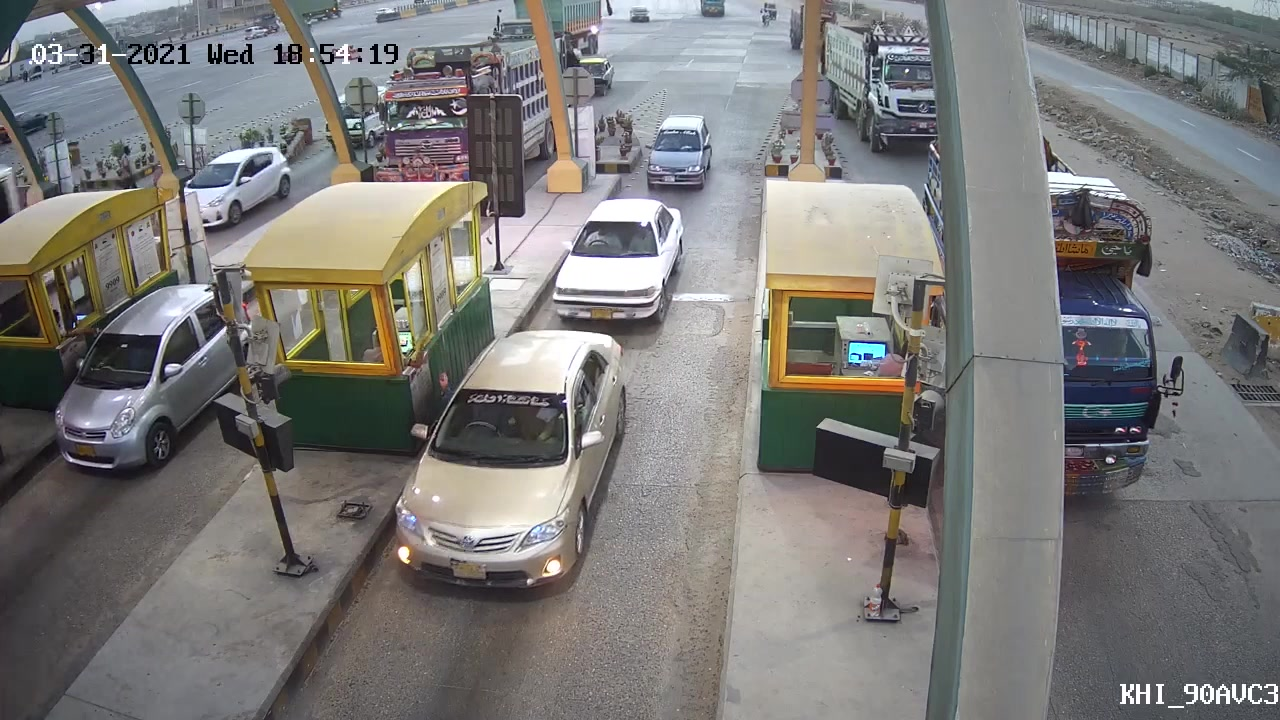F1: (384, 323, 634, 596), (551, 196, 692, 321), (644, 112, 717, 190)
